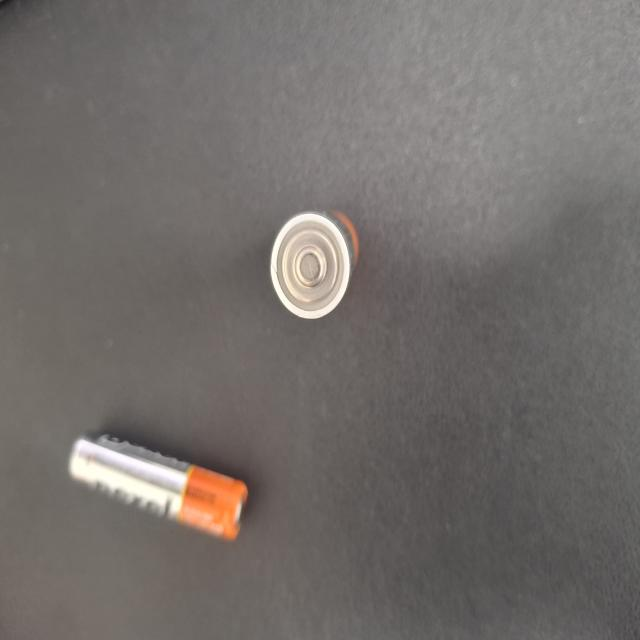AA: (154, 375, 241, 495)
AAA: (324, 521, 404, 640)
